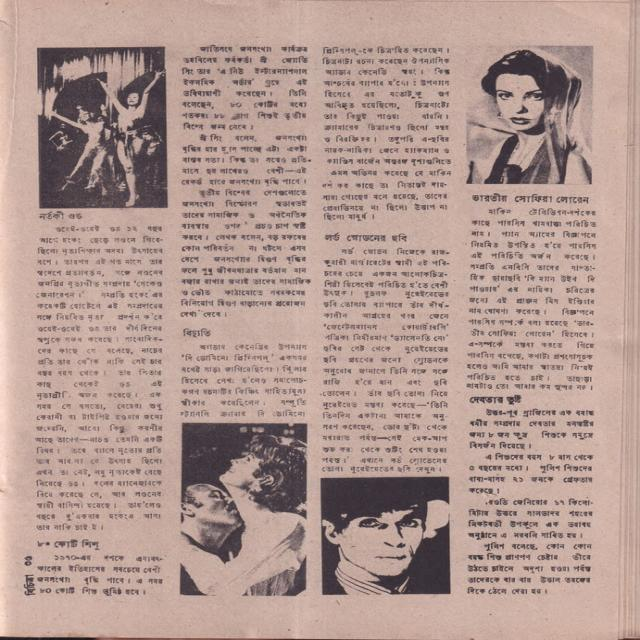image: (177, 422, 310, 599), (34, 45, 170, 210), (463, 44, 595, 186), (318, 475, 453, 596)
page number: (23, 554, 34, 567)
paragraph: (32, 224, 167, 534), (319, 247, 452, 475), (465, 206, 599, 393), (319, 45, 454, 223), (179, 187, 313, 319), (179, 44, 309, 132), (178, 342, 309, 419), (179, 133, 313, 188), (466, 542, 594, 596), (36, 553, 166, 598), (467, 407, 596, 451), (467, 497, 595, 541), (467, 451, 595, 495)
text: (22, 573, 37, 597)
title: (470, 192, 591, 205), (323, 231, 409, 244), (36, 538, 102, 551), (467, 393, 525, 406), (38, 210, 84, 221), (181, 327, 214, 339)
